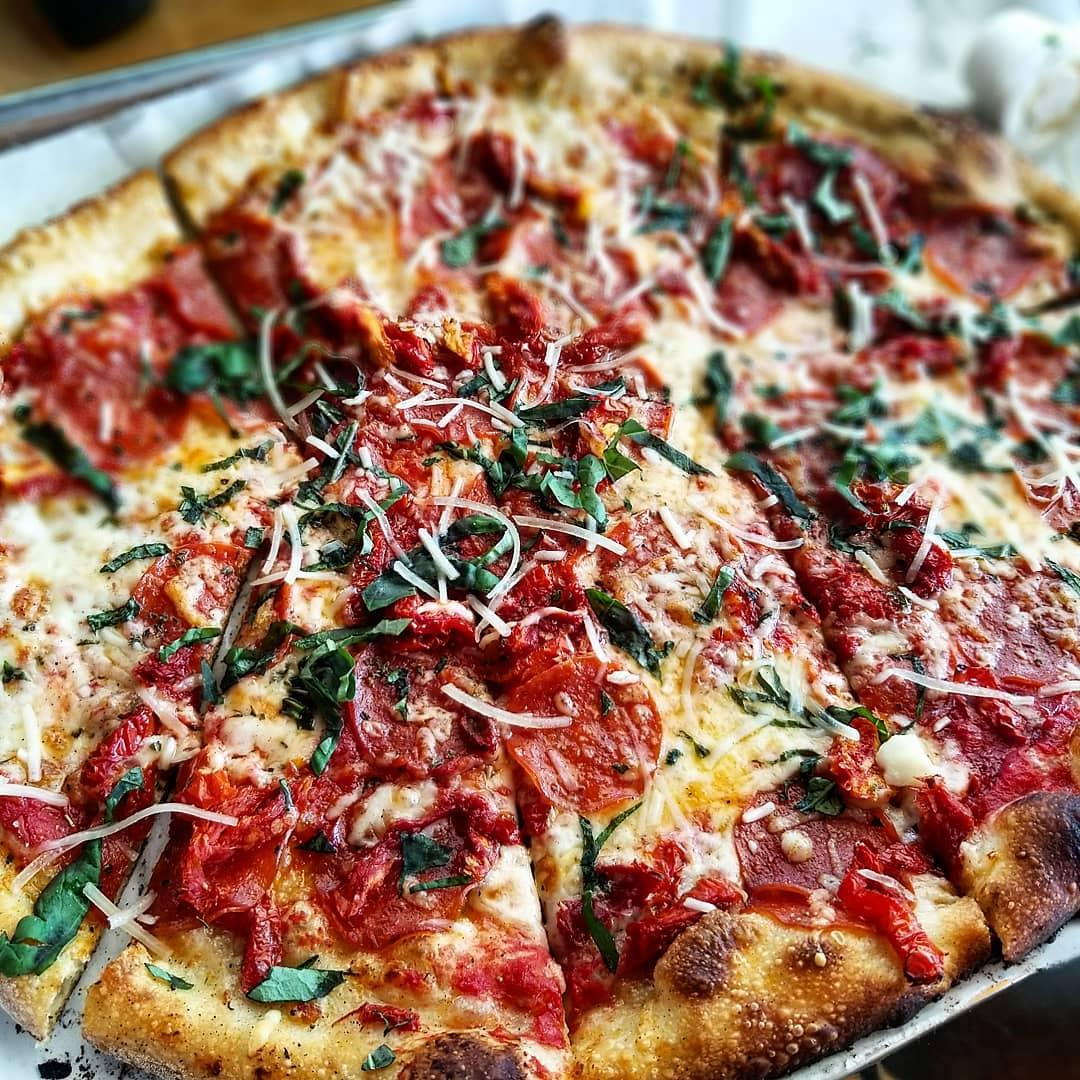Basil: (458, 366, 711, 525), (706, 121, 896, 261), (11, 774, 145, 969), (273, 616, 415, 759), (818, 238, 1000, 344), (156, 303, 320, 410), (356, 505, 517, 608), (7, 405, 129, 526), (817, 387, 930, 505), (578, 797, 652, 971), (201, 602, 289, 748), (901, 395, 1053, 477), (965, 268, 1080, 370), (270, 393, 371, 501), (717, 401, 811, 517), (78, 535, 168, 640), (685, 51, 777, 144), (240, 947, 357, 1013), (618, 143, 698, 239), (423, 196, 510, 263), (690, 350, 748, 437)
Pepperoni: (18, 286, 204, 464), (889, 538, 1080, 693), (501, 649, 668, 809), (344, 627, 509, 783), (156, 202, 318, 337), (729, 770, 890, 901), (748, 131, 905, 259), (914, 195, 1059, 306)
Pizza: (0, 14, 1080, 1080)
